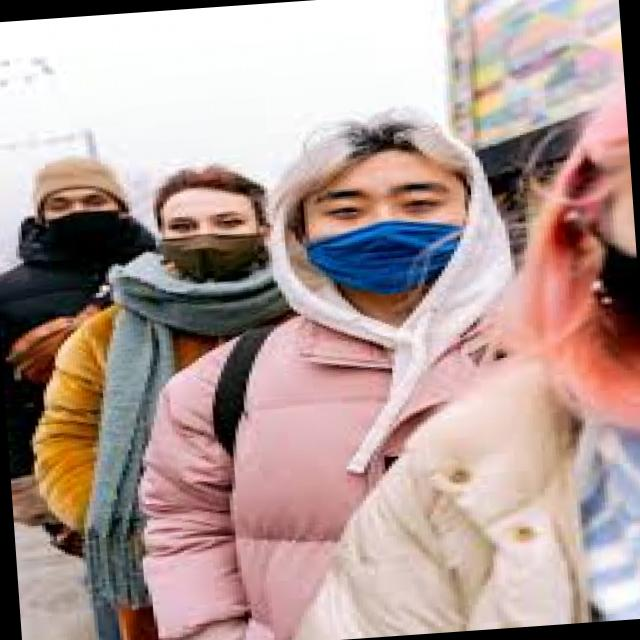Jacket: (176, 295, 502, 640), (371, 340, 620, 636), (68, 276, 334, 515), (7, 224, 188, 504)
